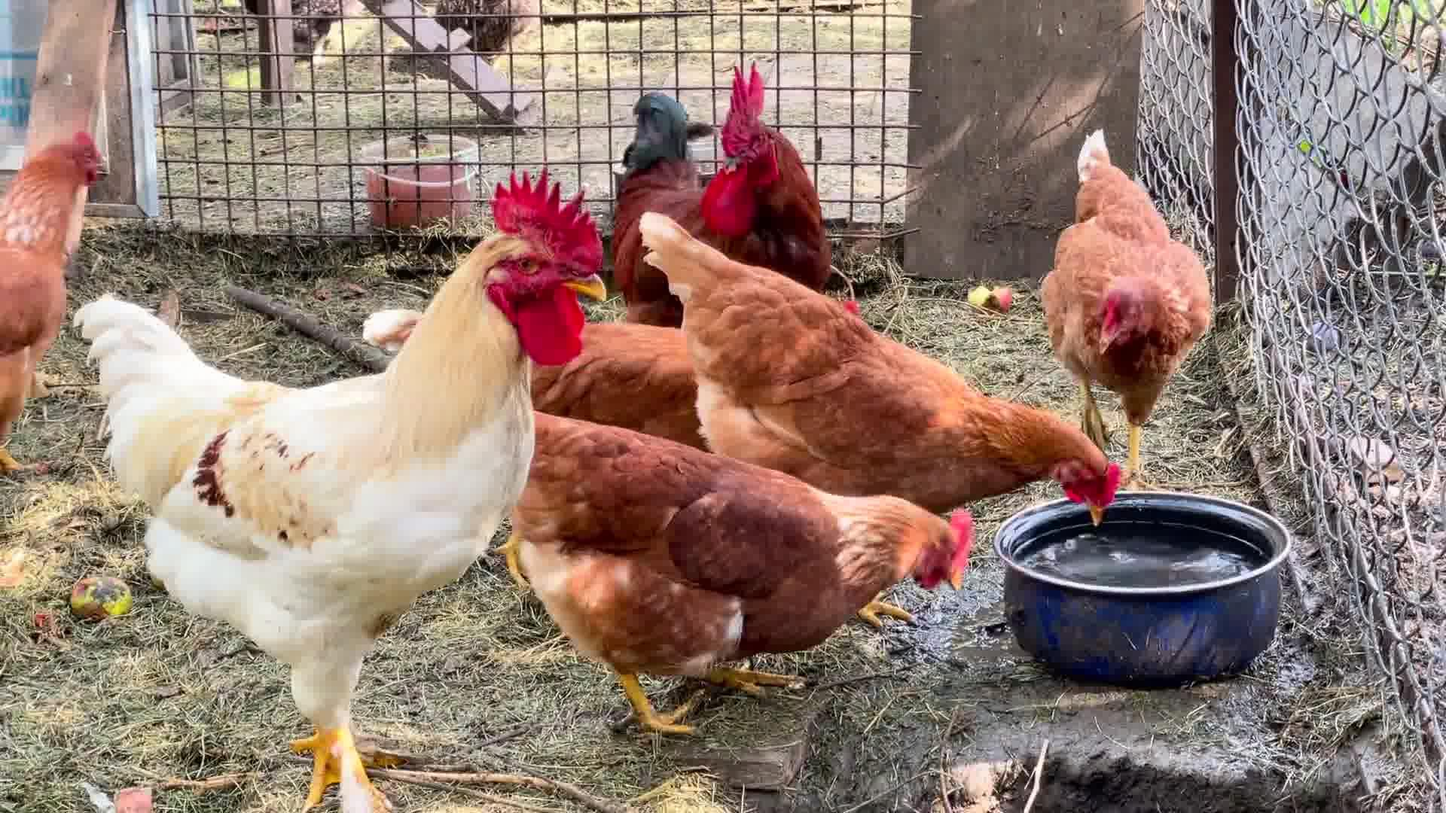Normal: (102, 174, 609, 813), (641, 211, 1122, 568), (531, 401, 963, 737), (1013, 110, 1254, 464), (609, 70, 872, 313), (0, 121, 126, 496)
